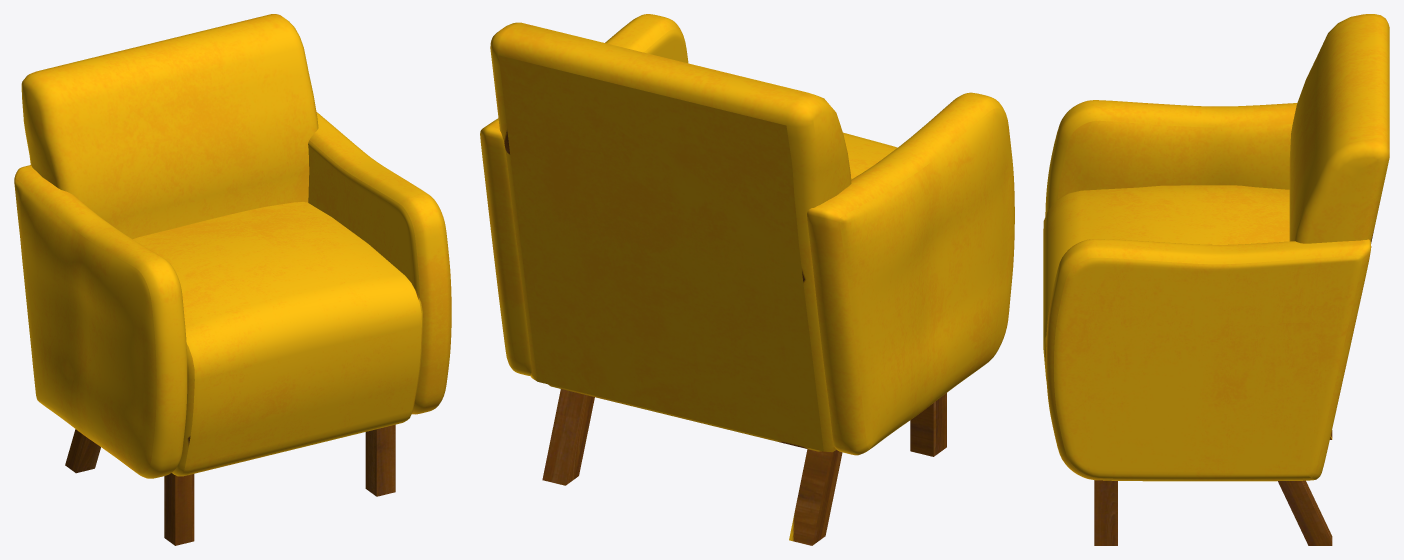
File: Hollywood_01.gltf
The picture shows the model from 3 angles, left to right: view 1: azimuth 30°, elevation 25°; view 2: azimuth 150°, elevation 25°; view 3: azimuth 270°, elevation 25°; orthographic projection. The views are drawn at different scales.
Parts seen in each view (by area): view 1: asiento_Baked.001; view 2: asiento_Baked.001; view 3: asiento_Baked.001.
Part boxes in pixels (bbox=[...]): asiento_Baked.001: bbox=[14, 14, 451, 545]; asiento_Baked.001: bbox=[480, 14, 1014, 545]; asiento_Baked.001: bbox=[1043, 14, 1389, 545].
Bounding box in the file's own units: 0.6965 × 0.825 × 0.6317.
1 material, 1 textured.
